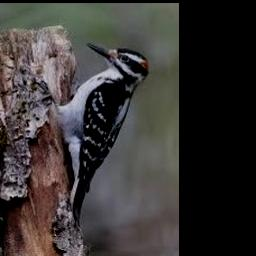Woodpecker: (56, 42, 148, 224)
